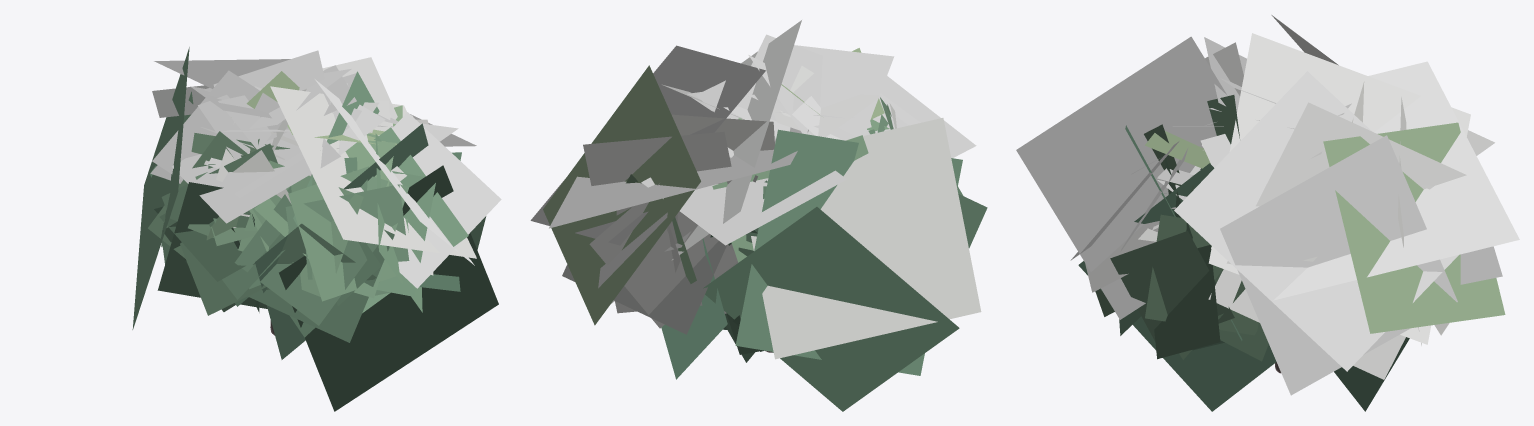
The model's file is elder_v1.glb.
The picture shows the model from 3 angles, left to right: view 1: azimuth 30°, elevation 25°; view 2: azimuth 150°, elevation 25°; view 3: azimuth 270°, elevation 25°; orthographic projection. The views are drawn at different scales.
Visible parts, largest first — view 1: near, far; view 2: far, near; view 3: far, near.
Part boxes in pixels (x1,y1,x2,y2): near: (148,50,501,342); far: (132,47,498,411); far: (530,20,981,411); near: (589,34,987,362); far: (1016,15,1519,411); near: (1070,37,1502,373).
Bounding box in the file's own units: 9.3 × 6.72 × 8.46.
